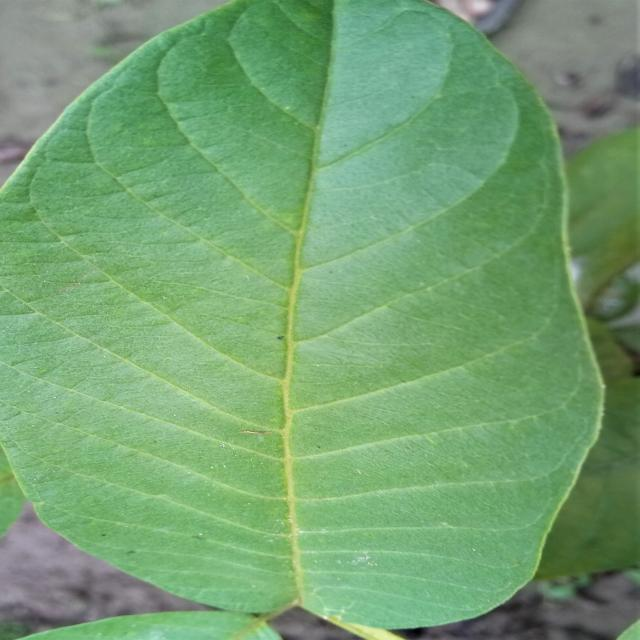Disease Free: (2, 0, 603, 629)
